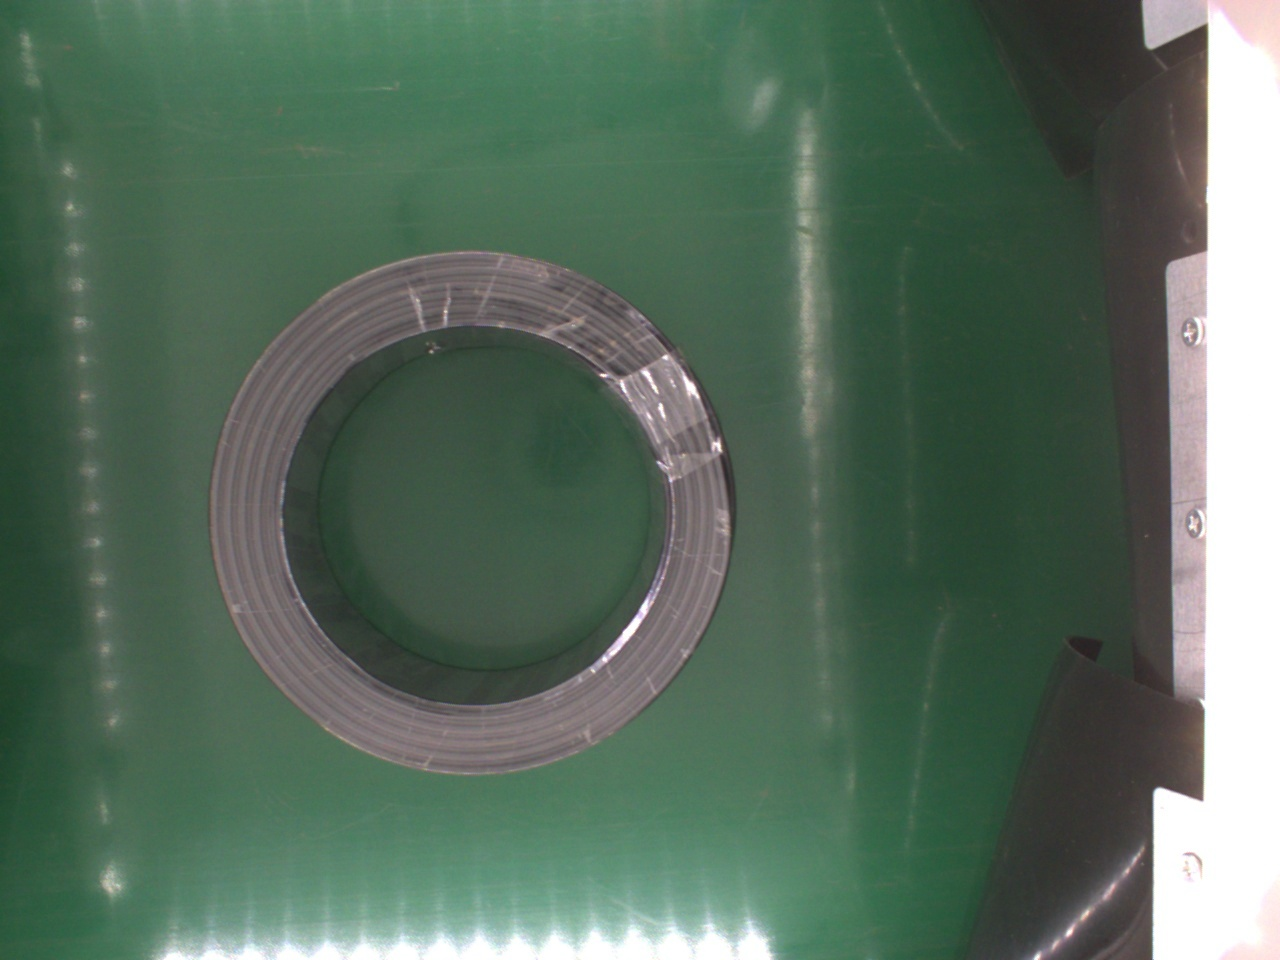black: (204, 250, 727, 779)
